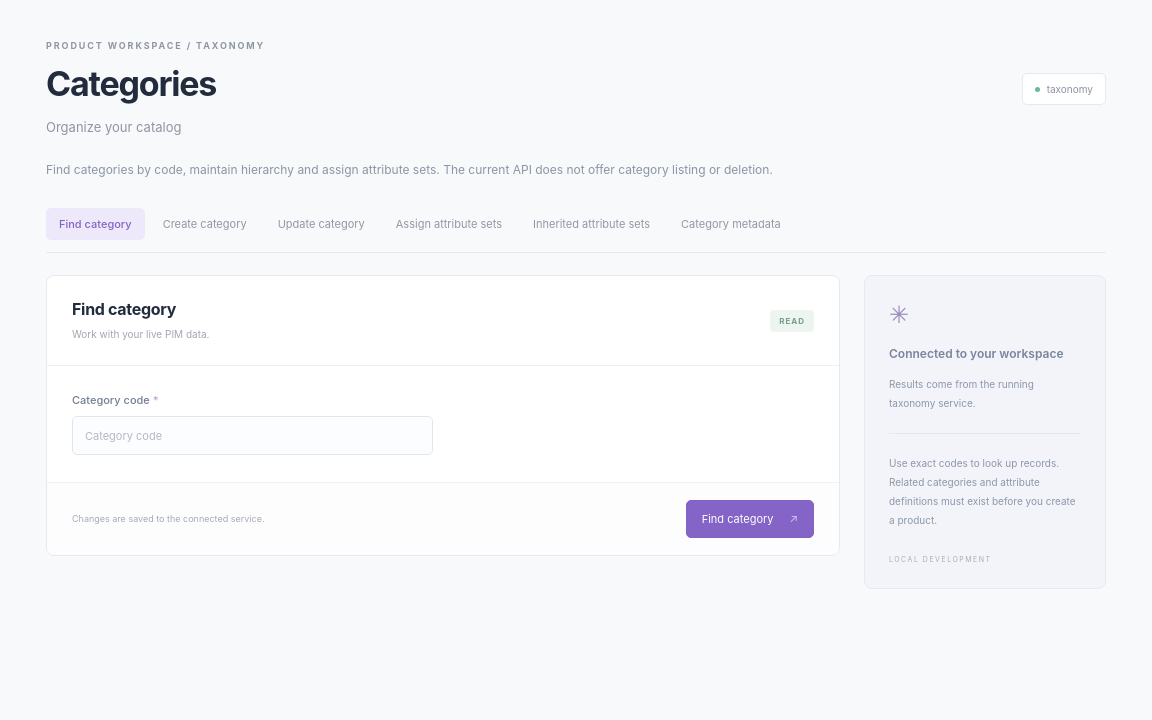
Test case: Live workspace forms › shows backend validation errors without claiming a save
In the field labelled "Category code *": (252, 436) [72,416,433,455], type "missing"
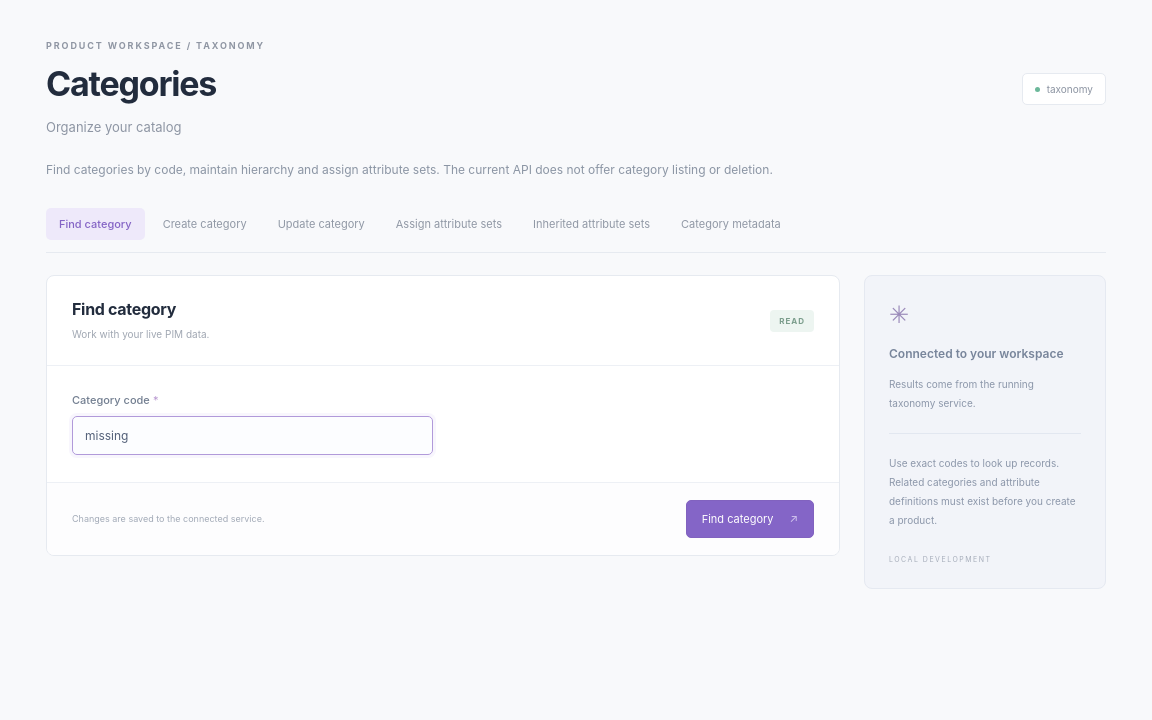
Click the button "Find category ↗": (750, 519) [686,500,814,538]
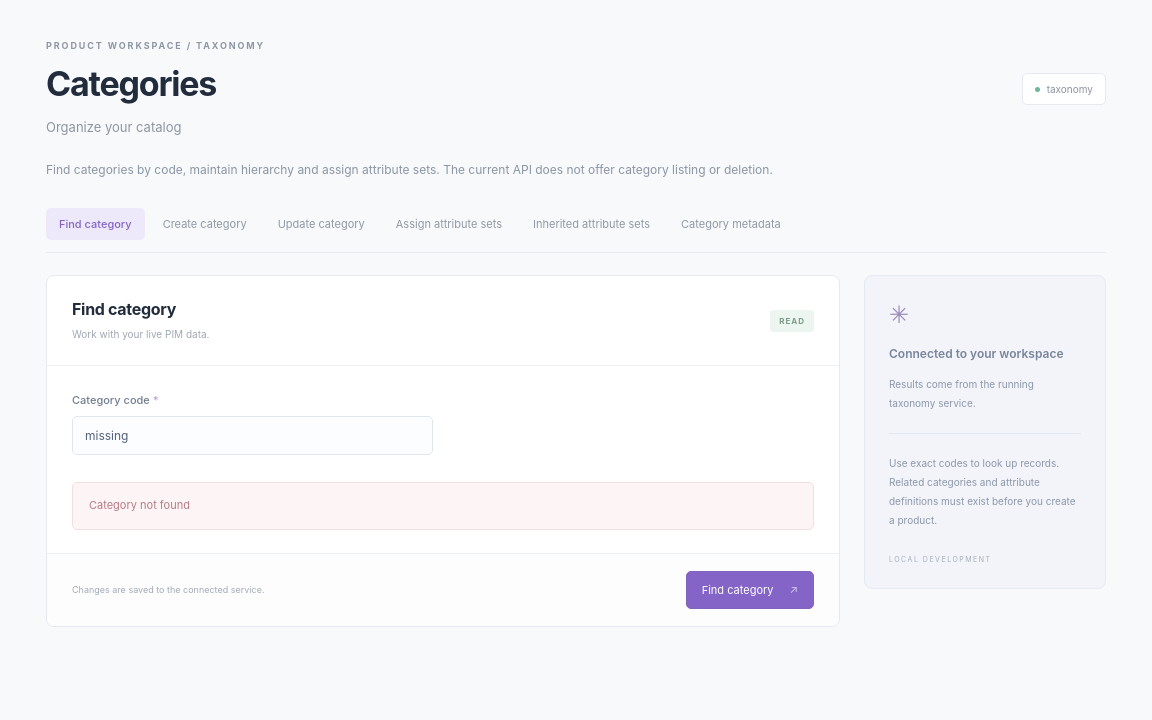
Result: the message reads "Category not found" at [89,498,190,512]
